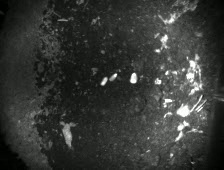corn: (127, 70, 140, 85), (107, 71, 120, 82), (98, 75, 109, 86)
